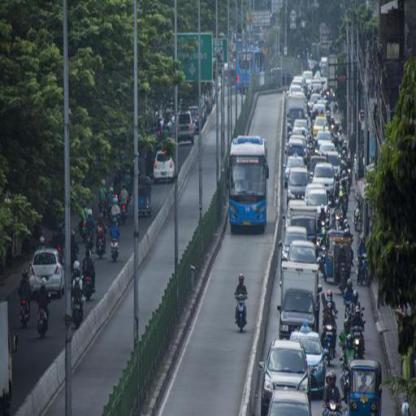bus: (225, 134, 270, 231)
car: (262, 334, 308, 397), (27, 245, 71, 296), (285, 239, 321, 278), (299, 326, 326, 378), (282, 164, 310, 204), (153, 147, 180, 185), (314, 161, 338, 194), (308, 184, 331, 218), (176, 112, 194, 140)
motorbike: (349, 324, 369, 368), (234, 290, 249, 331), (320, 389, 342, 415), (322, 321, 336, 357)
